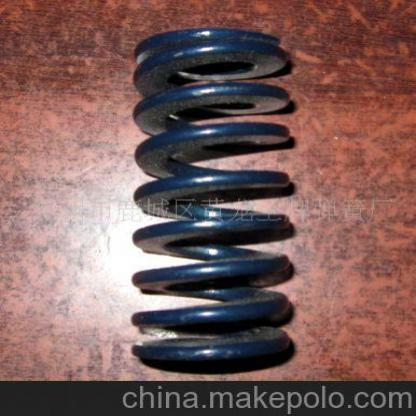FOD: (127, 25, 313, 376)
